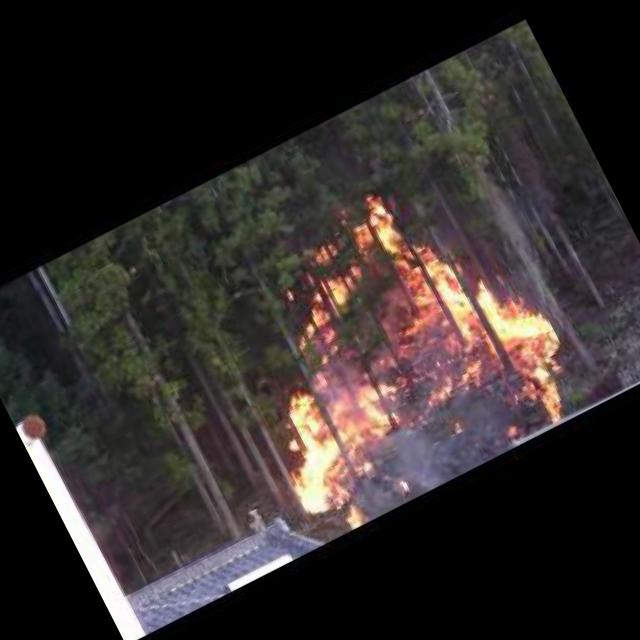fire: (358, 148, 592, 456), (252, 340, 438, 520), (254, 206, 414, 370), (422, 374, 460, 408), (339, 502, 368, 532)
smoke: (360, 414, 452, 504)
